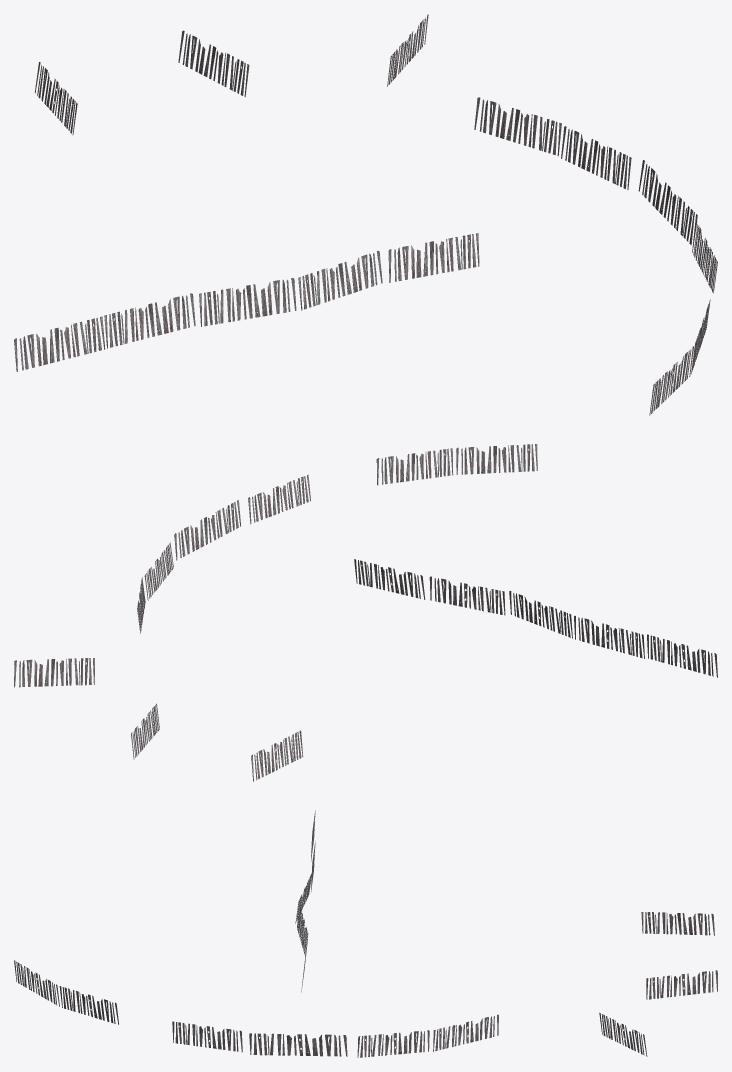
Rendered from material3.019_lev3.glb.
3 views of the same model, one above another, from view 1: azimuth 30°, elevation 25°; view 2: azimuth 150°, elevation 25°; view 3: azimuth 270°, elevation 25° (orthographic). The views are drawn at different scales.
Visible parts, largest first — view 1: material3.019_lev3; view 2: material3.019_lev3; view 3: material3.019_lev3.
Part boxes in pixels (x1,y1,x2,y2): material3.019_lev3: (14,14,717,415); material3.019_lev3: (14,444,717,781); material3.019_lev3: (14,810,717,1057).
Size of the model in its own units: 2.4 by 0.1551 by 3.12.
Materials: 1 (1 with a texture image).
